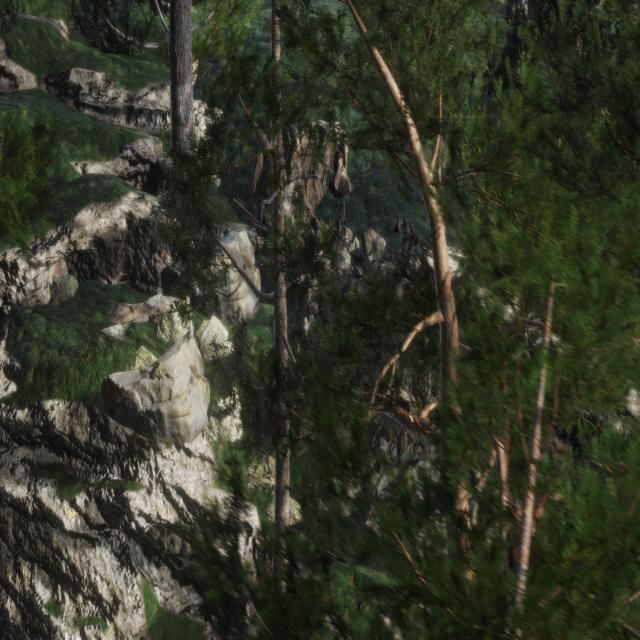Human: (296, 272, 316, 368)
